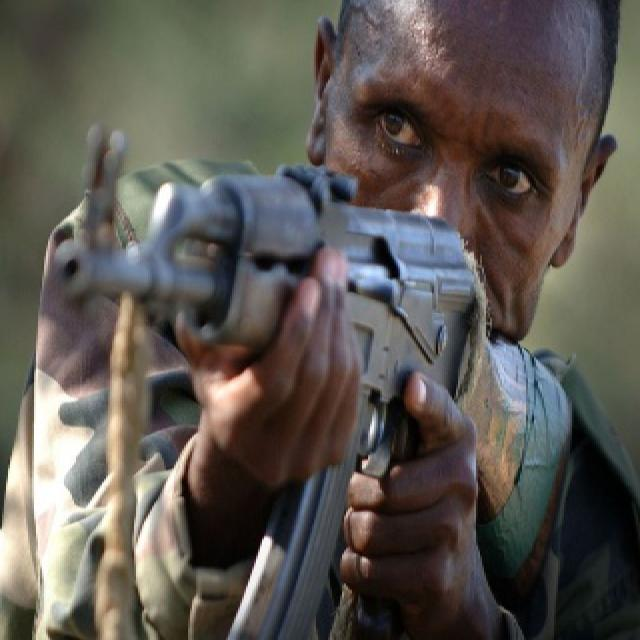rifle: (45, 125, 505, 640)
